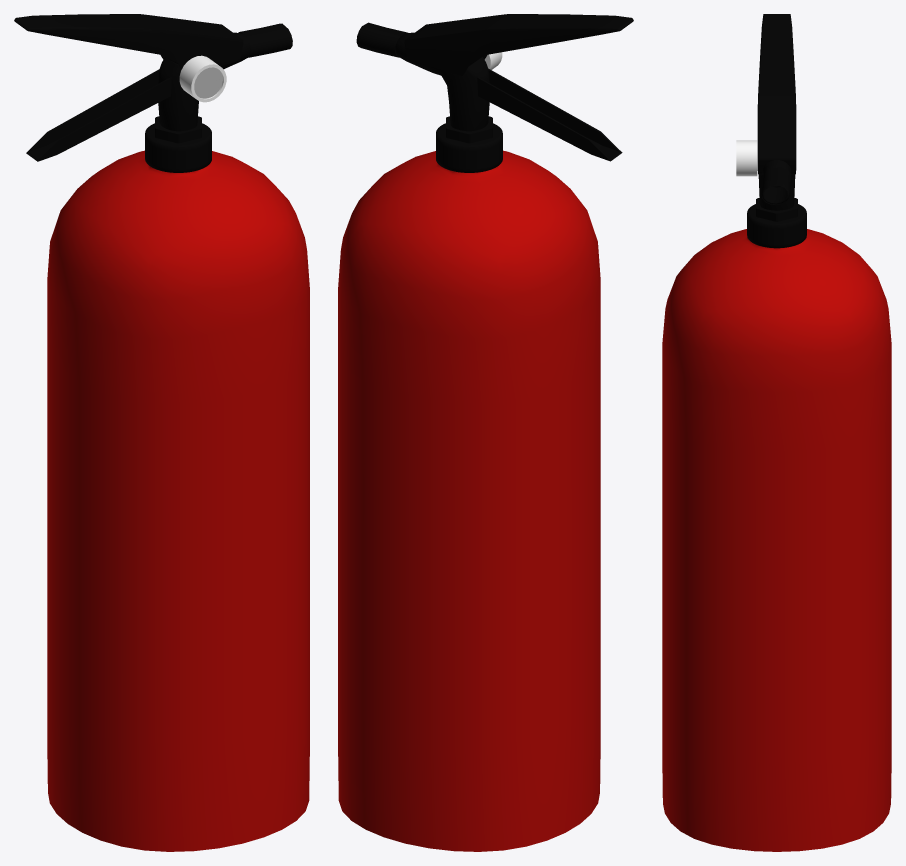
File: fireExtinguisher.glb
The picture shows the model from 3 angles, left to right: view 1: azimuth 30°, elevation 25°; view 2: azimuth 150°, elevation 25°; view 3: azimuth 270°, elevation 25°; orthographic projection. The views are drawn at different scales.
Visible parts, largest first — view 1: pCube10, pCube11, pCube12, pCylinder109, polySurface174, pCylinder108, polySurface176, pCylinder110; view 2: pCube10, pCube11, pCube12, polySurface174, pCylinder109, polySurface176, pCylinder110; view 3: pCube10, pCube11, pCylinder109, polySurface176, pCylinder108, polySurface174, pCylinder110.
Part boxes in pixels (x1,y1,x2,y2): pCube10: (47, 150, 309, 851); pCube11: (14, 14, 243, 69); pCube12: (26, 69, 171, 161); pCylinder109: (145, 123, 211, 172); polySurface174: (158, 32, 251, 131); pCylinder108: (179, 55, 226, 102); polySurface176: (238, 23, 292, 57); pCylinder110: (155, 116, 201, 143); pCube10: (338, 150, 600, 851); pCube11: (404, 14, 633, 75); pCube12: (477, 68, 622, 161); polySurface174: (395, 32, 489, 131); pCylinder109: (436, 123, 502, 172); polySurface176: (356, 22, 407, 57); pCylinder110: (446, 116, 492, 143); pCube10: (662, 229, 891, 851); pCube11: (757, 14, 796, 174); pCylinder109: (747, 204, 806, 248); polySurface176: (761, 167, 791, 204); pCylinder108: (736, 140, 757, 176); polySurface174: (758, 160, 795, 210); pCylinder110: (756, 198, 797, 221).
Bounding box in the file's own units: 0.1619 × 0.4664 × 0.1342.
